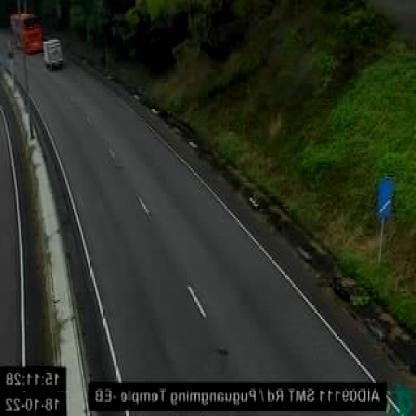Bus: (8, 12, 41, 54)
Truck: (42, 38, 64, 72)
